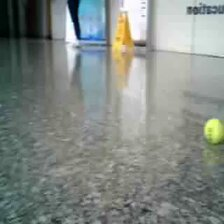tennis: (203, 118, 224, 144)
